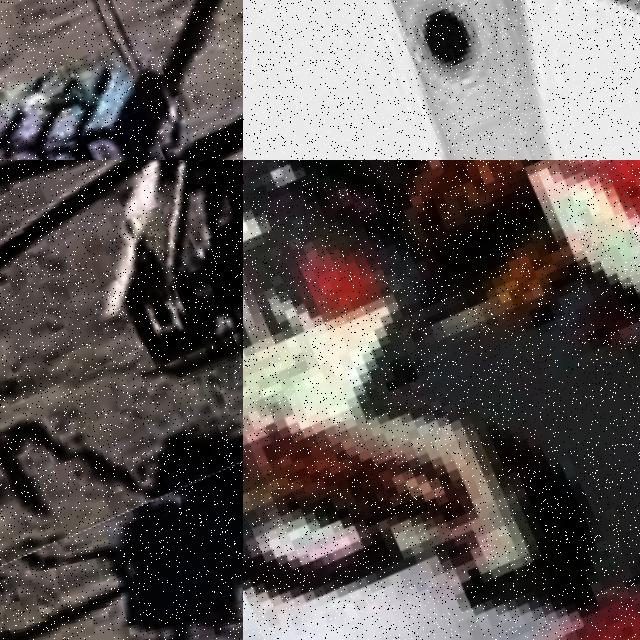drone: (243, 160, 640, 640), (0, 160, 243, 587), (243, 0, 640, 160), (0, 0, 243, 160)
